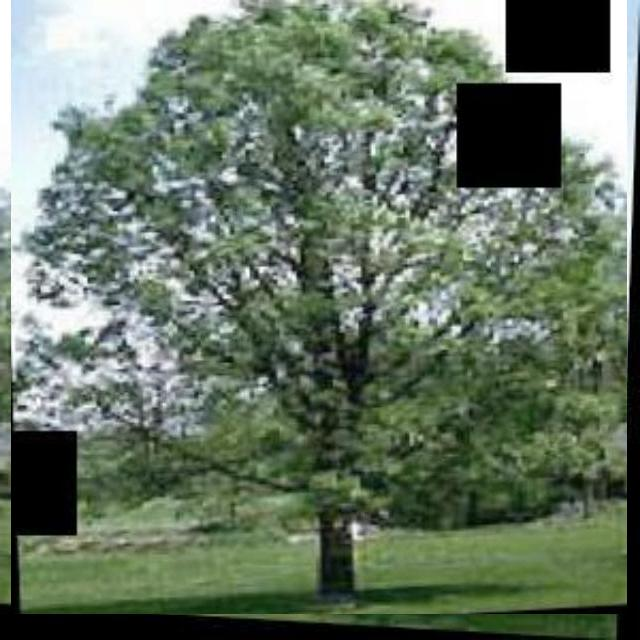tree: (11, 0, 627, 614)
